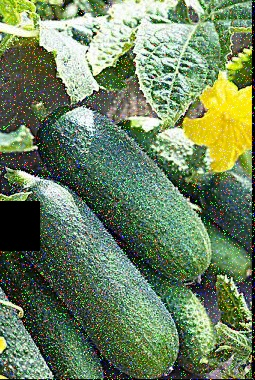cucumber: (8, 180, 169, 371), (47, 108, 208, 282)
cucumber_plant: (35, 4, 251, 105)
